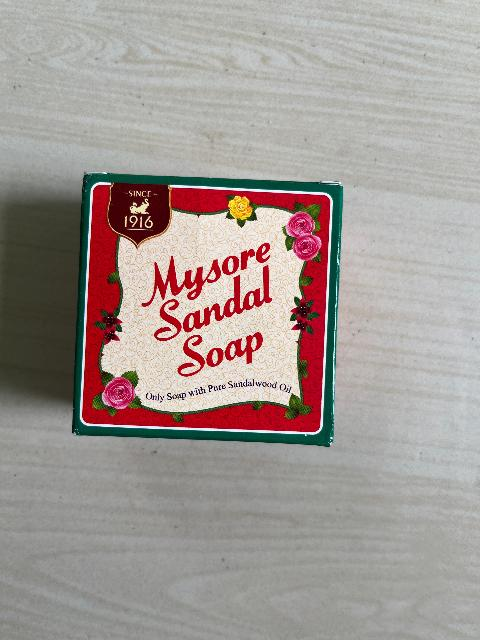mysore sandal soap: (81, 165, 348, 446)
